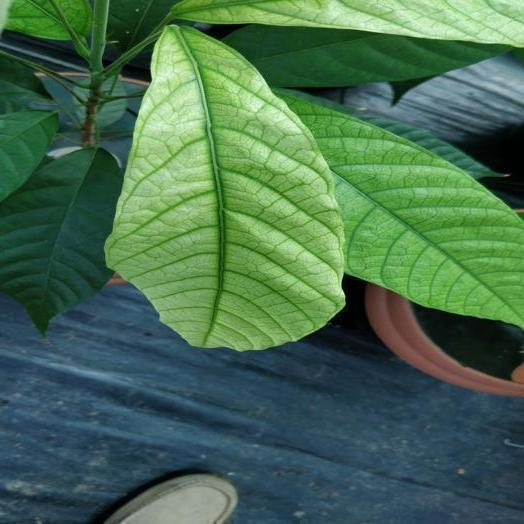Healthy Leaf: (0, 149, 121, 333), (0, 110, 57, 201)
Iron: (106, 26, 343, 348), (278, 92, 523, 326), (174, 0, 523, 46)
